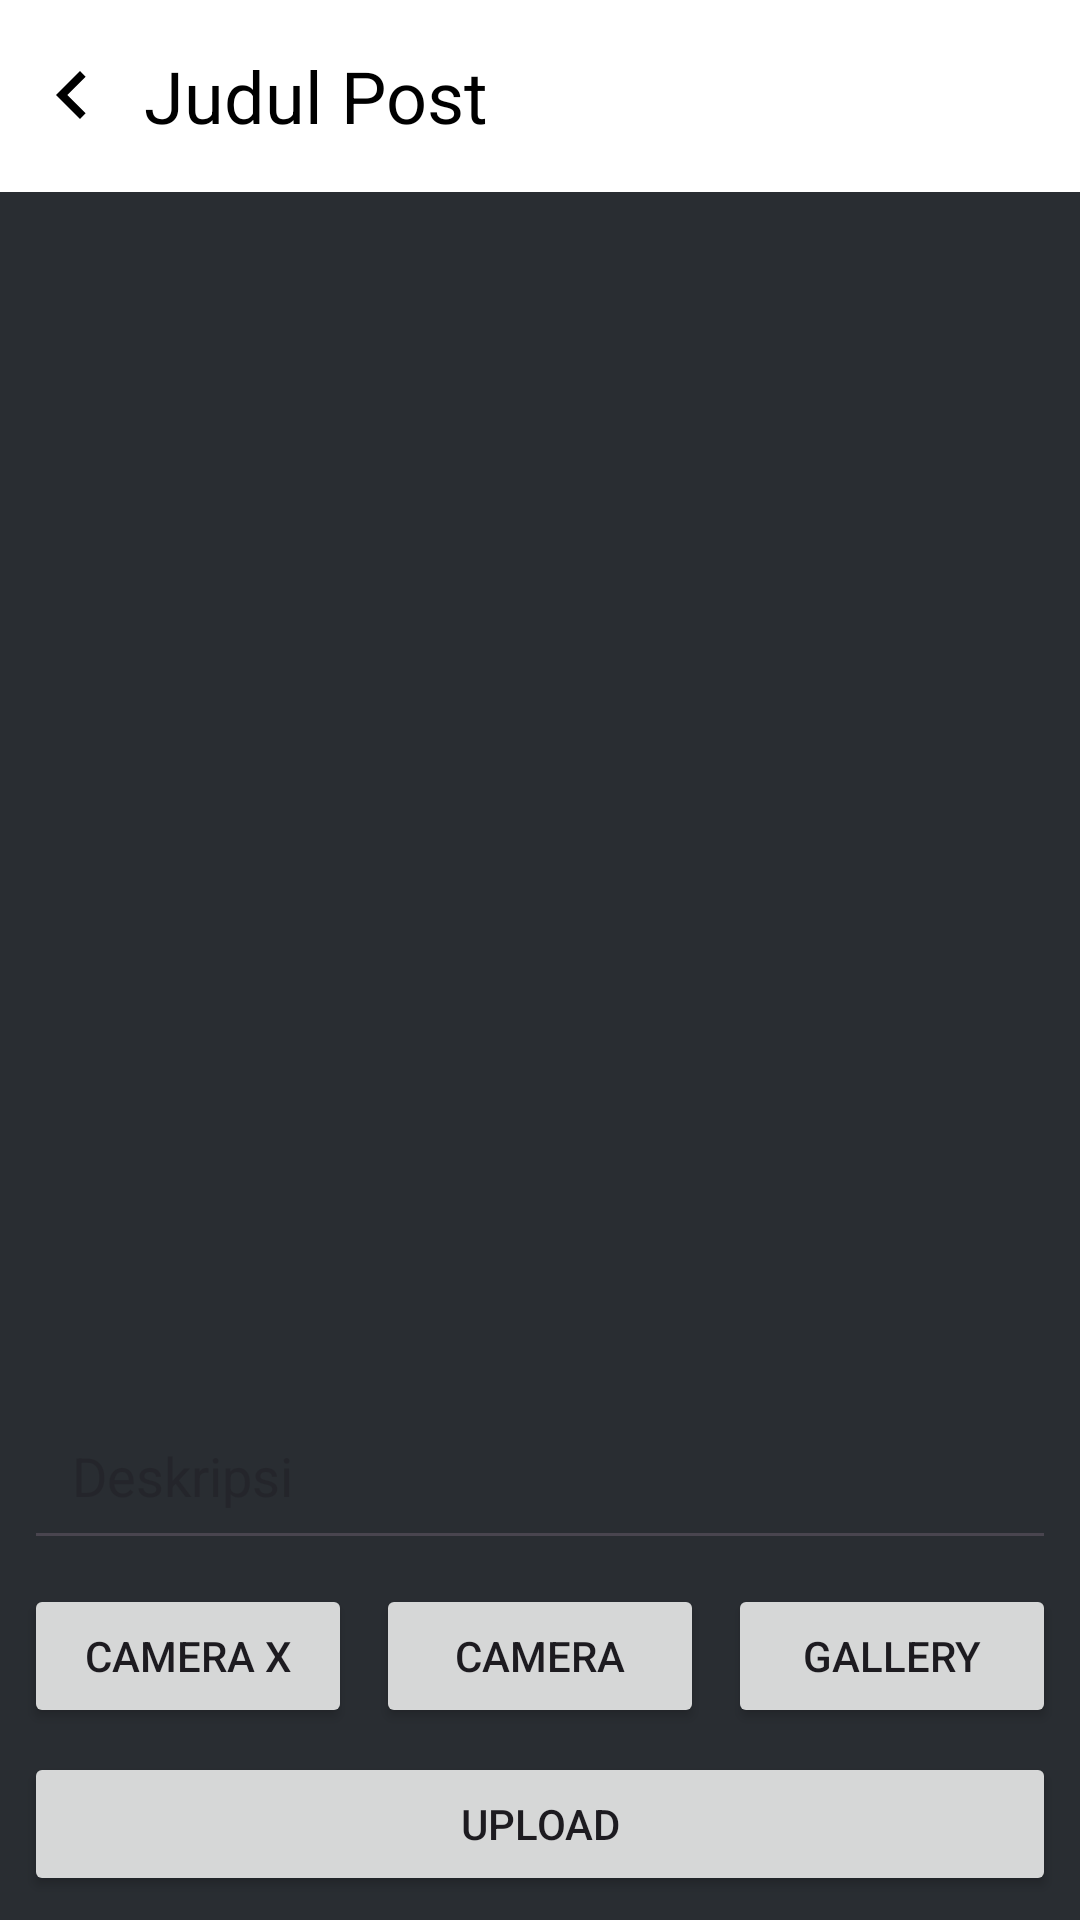

Locate icon controls on the screen. Image size 1080 x 1920, boxes as BBox(x1, y1, x2, y2).
Back: BBox(56, 71, 86, 119)
